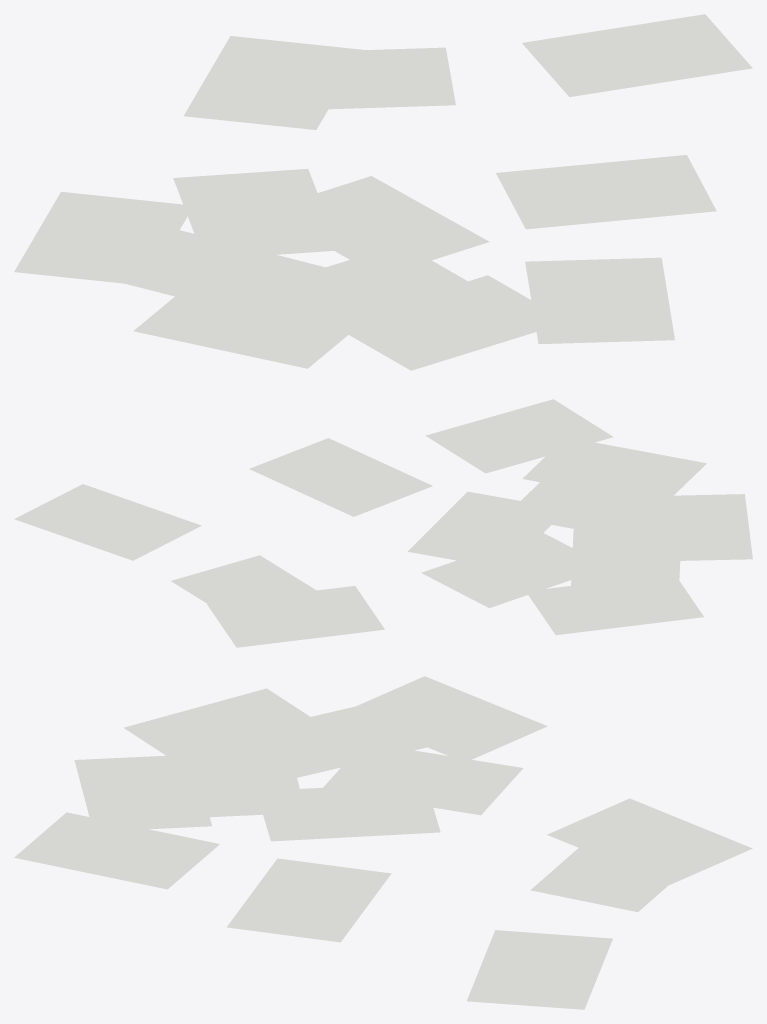
File: PilhaPapeis2.fbx
3 renders of one model, top to bottom at view 1: azimuth 30°, elevation 25°; view 2: azimuth 150°, elevation 25°; view 3: azimuth 270°, elevation 25°, orthographic. The views are drawn at different scales.
Parts seen in each view (by area): view 1: Plane.007, Plane.003, Plane.009, Plane, Plane.010, Plane.005, Plane.002, Plane.001, Plane.011, Plane.004, Plane.006, Plane.008; view 2: Plane, Plane.003, Plane.007, Plane.010, Plane.009, Plane.002, Plane.005, Plane.001, Plane.006, Plane.011, Plane.008, Plane.004; view 3: Plane, Plane.003, Plane.007, Plane.009, Plane.010, Plane.005, Plane.001, Plane.011, Plane.002, Plane.006, Plane.008, Plane.004.
Boxes of the visible parts, left/top/right/bottom form: Plane.007: left=496, top=155, right=716, bottom=229; Plane.003: left=522, top=14, right=752, bottom=96; Plane.009: left=173, top=169, right=339, bottom=259; Plane: left=525, top=257, right=674, bottom=344; Plane.010: left=14, top=191, right=187, bottom=285; Plane.005: left=330, top=275, right=536, bottom=370; Plane.002: left=250, top=47, right=455, bottom=109; Plane.001: left=310, top=176, right=489, bottom=276; Plane.011: left=183, top=36, right=362, bottom=129; Plane.004: left=102, top=225, right=328, bottom=317; Plane.006: left=245, top=260, right=467, bottom=338; Plane.008: left=133, top=280, right=348, bottom=368; Plane: left=425, top=399, right=613, bottom=473; Plane.003: left=14, top=484, right=201, bottom=560; Plane.007: left=249, top=438, right=432, bottom=516; Plane.010: left=528, top=573, right=703, bottom=634; Plane.009: left=421, top=531, right=608, bottom=608; Plane.002: left=171, top=555, right=345, bottom=634; Plane.005: left=522, top=442, right=706, bottom=504; Plane.001: left=408, top=491, right=566, bottom=569; Plane.006: left=521, top=482, right=689, bottom=542; Plane.011: left=207, top=586, right=384, bottom=647; Plane.008: left=662, top=494, right=752, bottom=560; Plane.004: left=571, top=527, right=681, bottom=592; Plane: left=14, top=812, right=219, bottom=889; Plane.003: left=467, top=930, right=612, bottom=1009; Plane.007: left=227, top=858, right=391, bottom=942; Plane.009: left=321, top=742, right=523, bottom=815; Plane.010: left=342, top=676, right=547, bottom=759; Plane.005: left=74, top=754, right=211, bottom=829; Plane.001: left=256, top=783, right=440, bottom=841; Plane.011: left=547, top=798, right=752, bottom=884; Plane.002: left=530, top=832, right=711, bottom=912; Plane.006: left=168, top=741, right=299, bottom=817; Plane.008: left=123, top=688, right=309, bottom=755; Plane.004: left=236, top=706, right=442, bottom=778.
Bounding box in the file's own units: 688 × 9.53e-05 × 644.
12 materials, 12 textured.
